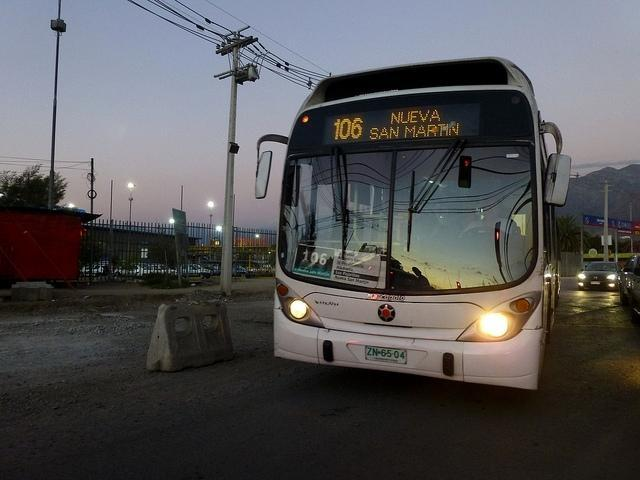bus: (250, 55, 573, 388)
car: (616, 249, 640, 328), (578, 261, 622, 291), (174, 264, 214, 282), (82, 262, 125, 276), (129, 262, 154, 276), (232, 263, 251, 278), (150, 264, 174, 274)
